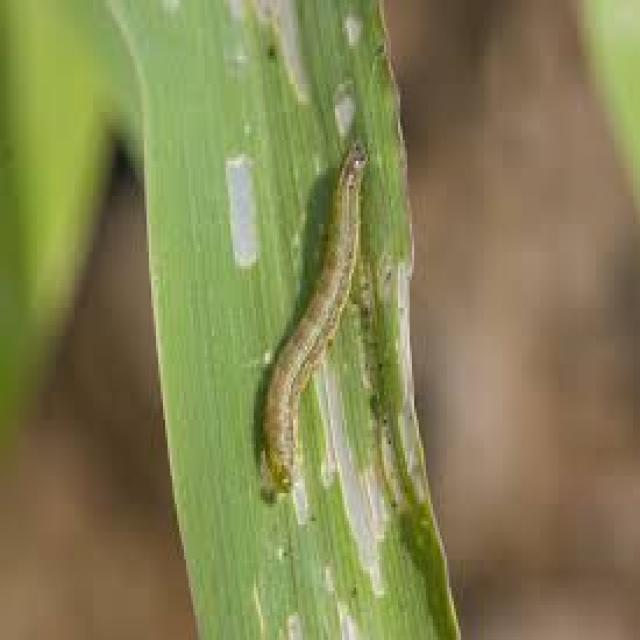Army Worm: (252, 129, 376, 508)
